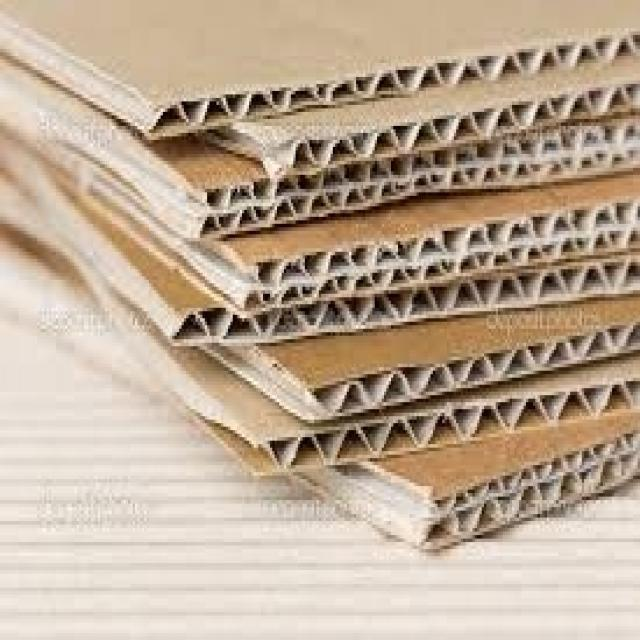cardboard paper: (0, 0, 639, 545)
